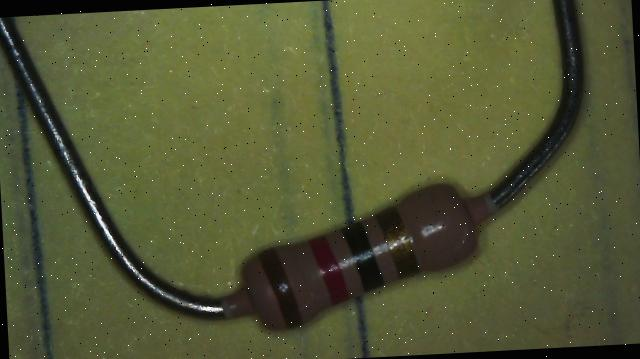black: (344, 222, 380, 289)
brown: (256, 254, 304, 327)
gold: (377, 207, 423, 278)
red: (308, 234, 346, 304)
resistor: (213, 143, 512, 358)
